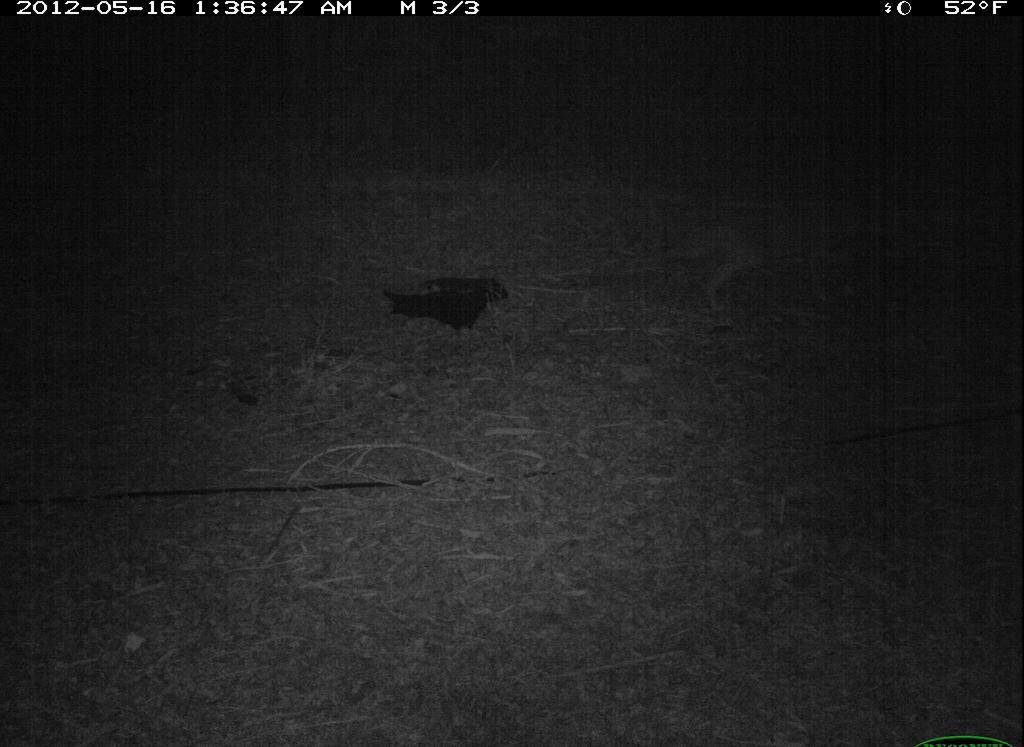coyote: (648, 193, 903, 323)
